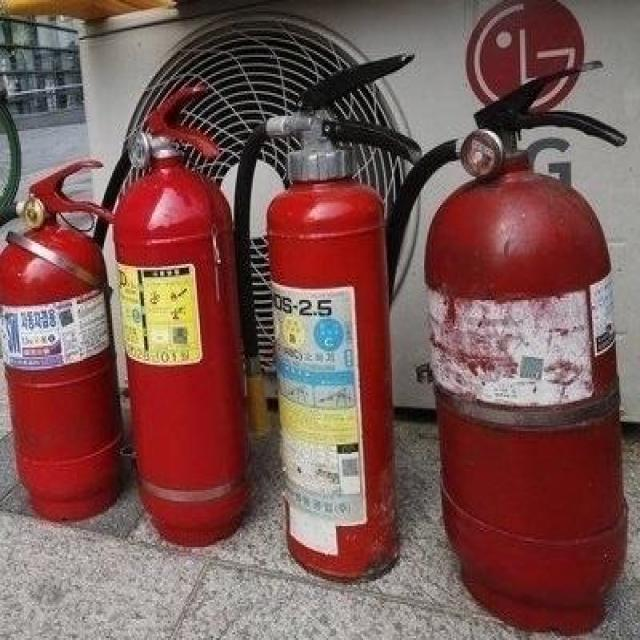fire_extinguisher: (347, 57, 629, 638), (228, 47, 425, 585), (69, 80, 259, 554), (0, 154, 139, 524)
